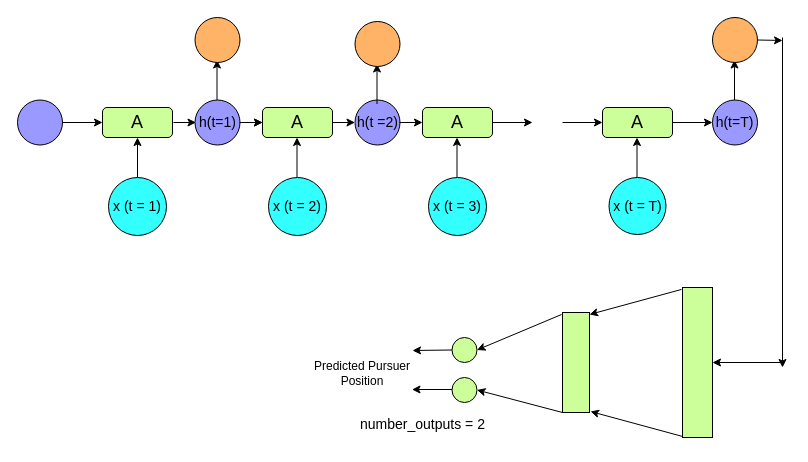
The diagram is 808 pixels wide and 462 high, and some of its shapes have lost their labels. The centre of each missing label's shape, as x and y in pixels:
h(t=0): point 39,122
y(t=1): point 217,39
y(t=2): point 377,43
y(t=T): point 735,39
